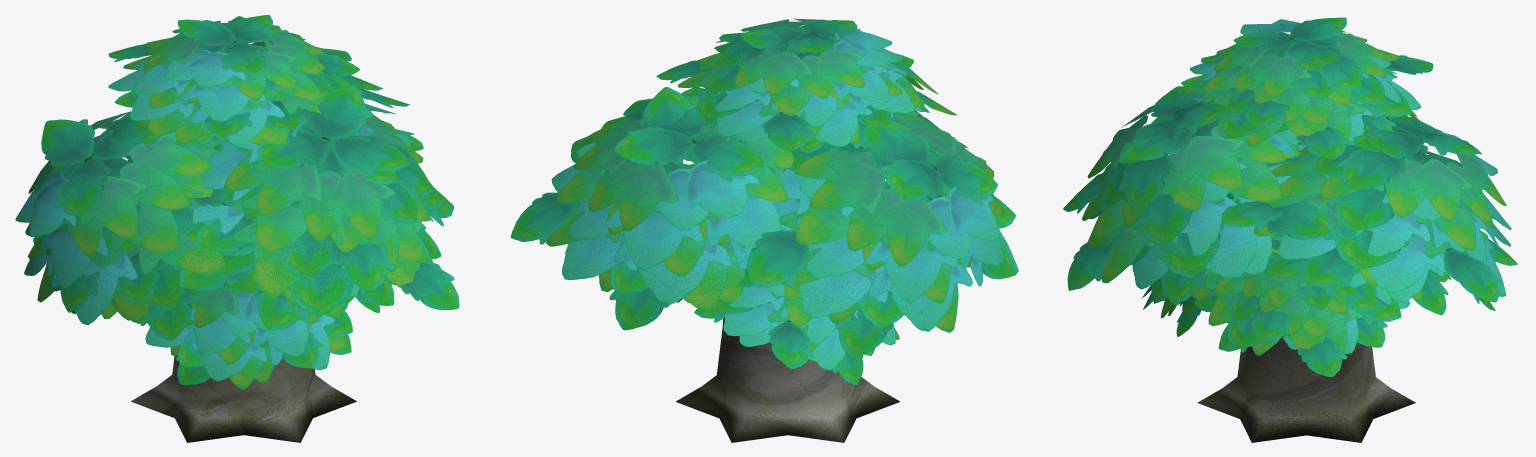
Rendered from tree-1.gltf.
The picture shows the model from 3 angles, left to right: view 1: azimuth 30°, elevation 25°; view 2: azimuth 150°, elevation 25°; view 3: azimuth 270°, elevation 25°; orthographic projection. The views are drawn at different scales.
Visible parts, largest first — view 1: Full Grow.004; view 2: Full Grow.004; view 3: Full Grow.004.
Part boxes in pixels (x1,y1,x2,y2): Full Grow.004: (15, 15, 459, 442); Full Grow.004: (510, 18, 1018, 442); Full Grow.004: (1063, 17, 1517, 442).
Size of the model in its own units: 14.8 by 12.49 by 14.7.
Materials: 1 (1 with a texture image).
